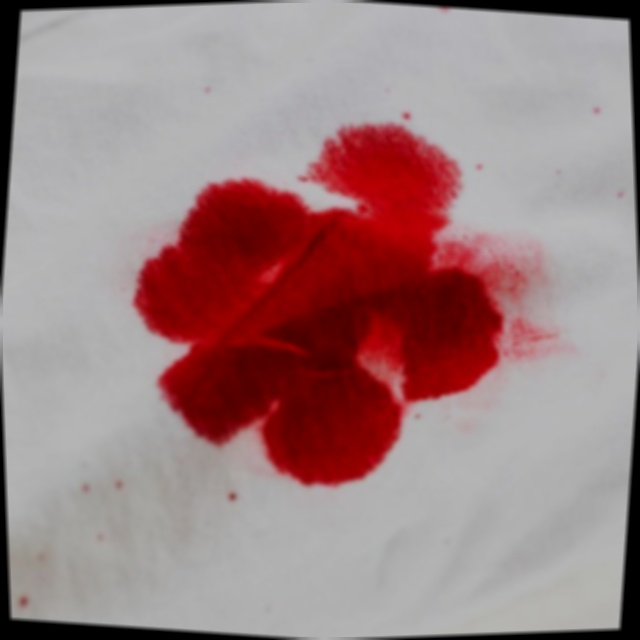blood: (135, 120, 510, 493)
